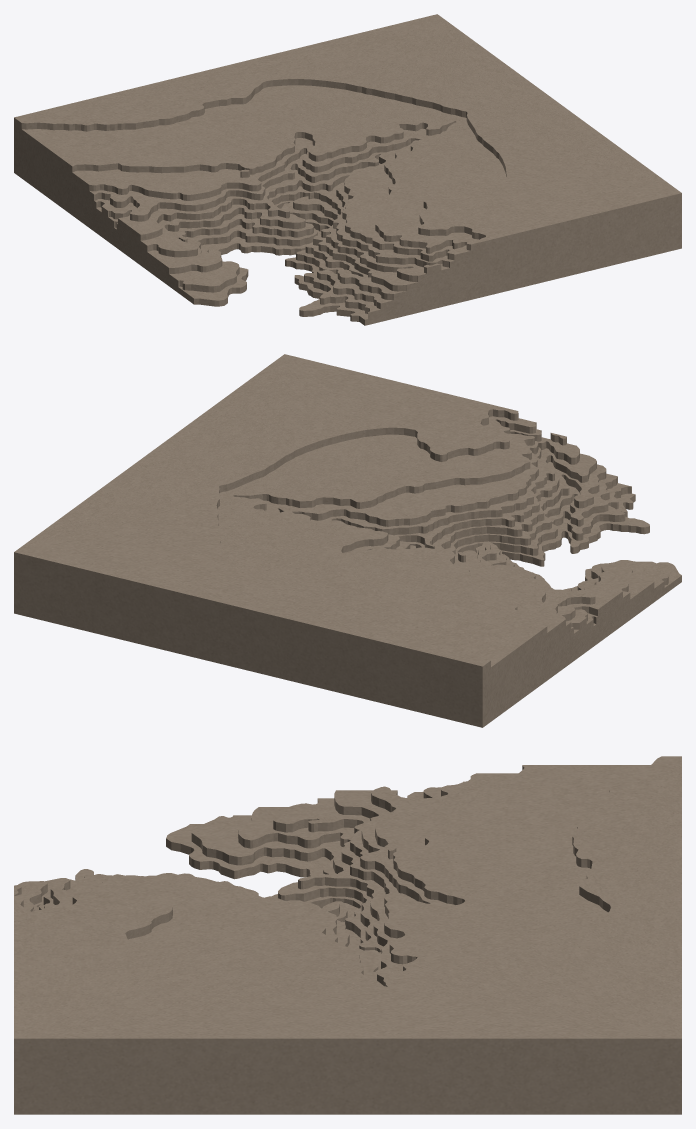
Rendered from coaster-draco.e722ba15.glb.
3 renders of one model, top to bottom at view 1: azimuth 30°, elevation 25°; view 2: azimuth 150°, elevation 25°; view 3: azimuth 270°, elevation 25°, orthographic. The views are drawn at different scales.
Visible parts, largest first — view 1: coaster; view 2: coaster; view 3: coaster.
Part boxes in pixels (x1,y1,x2,y2): coaster: [14, 14, 681, 325]; coaster: [14, 354, 681, 727]; coaster: [14, 756, 681, 1114].
Bounding box in the file's own units: 102 × 12.71 × 102.
1 material, 1 textured.
